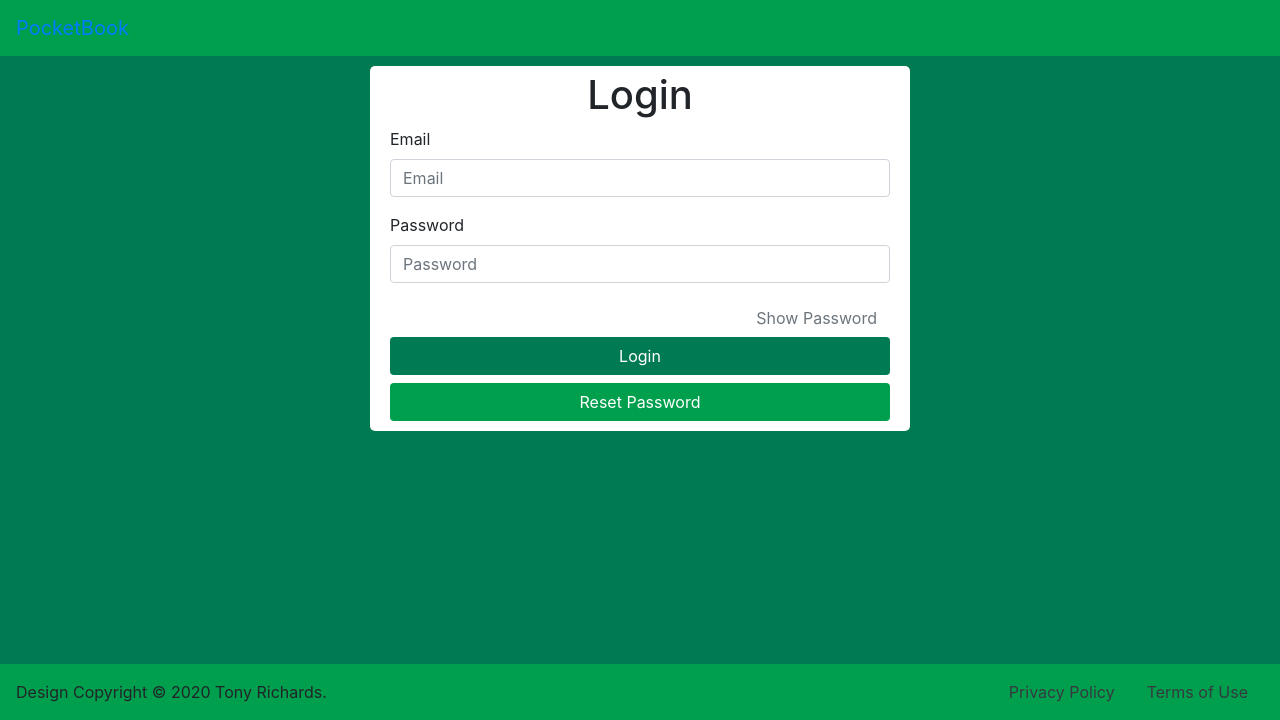
it: Login Page › renders in progress correctly
Type "test@sja.org.uk" into the field labelled "Email" at (640, 178), box [390,159,890,197]
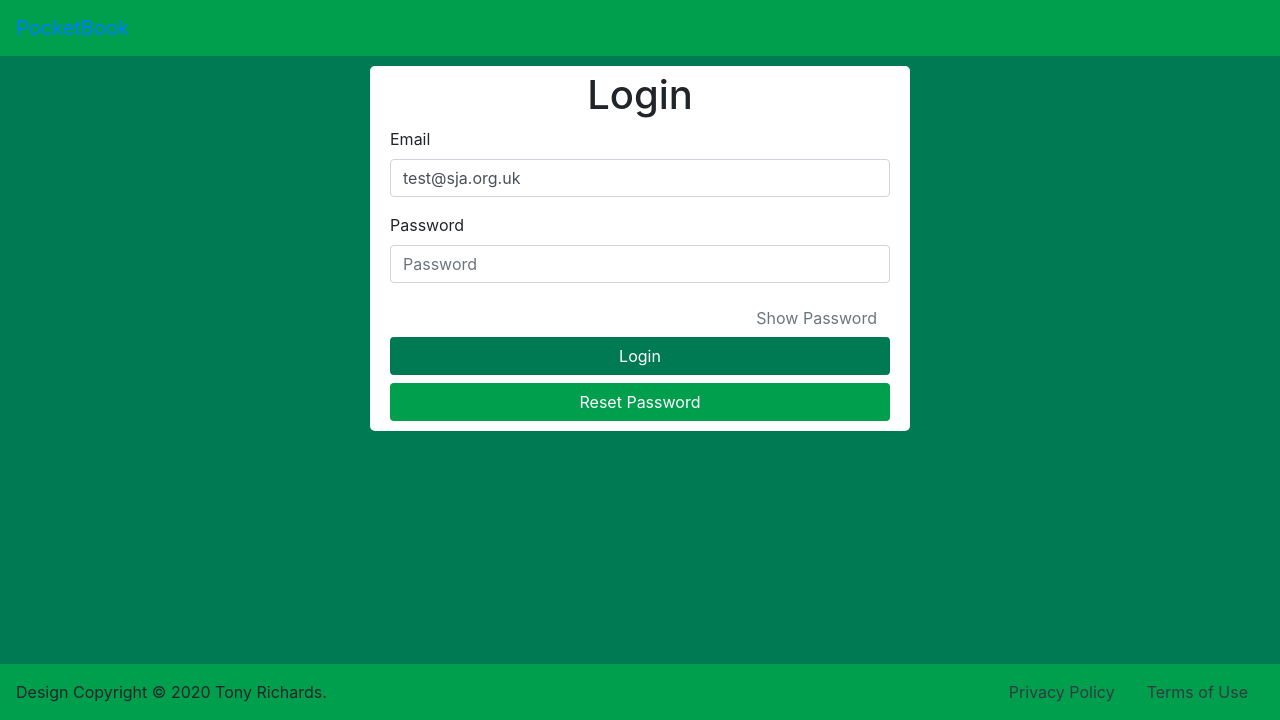
Type "testPassword" into the password field labelled "Password" at (640, 264), box [390,245,890,283]
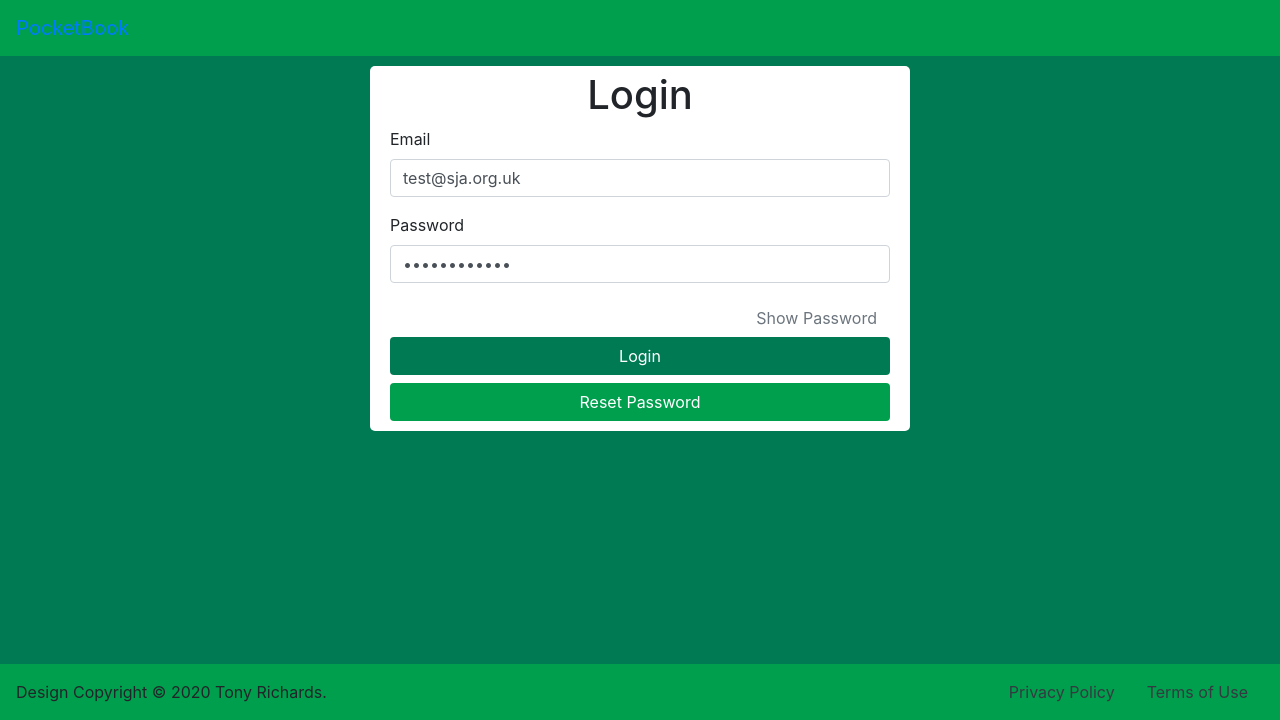
Click the button "Login" at (640, 356), box [390,337,890,375]
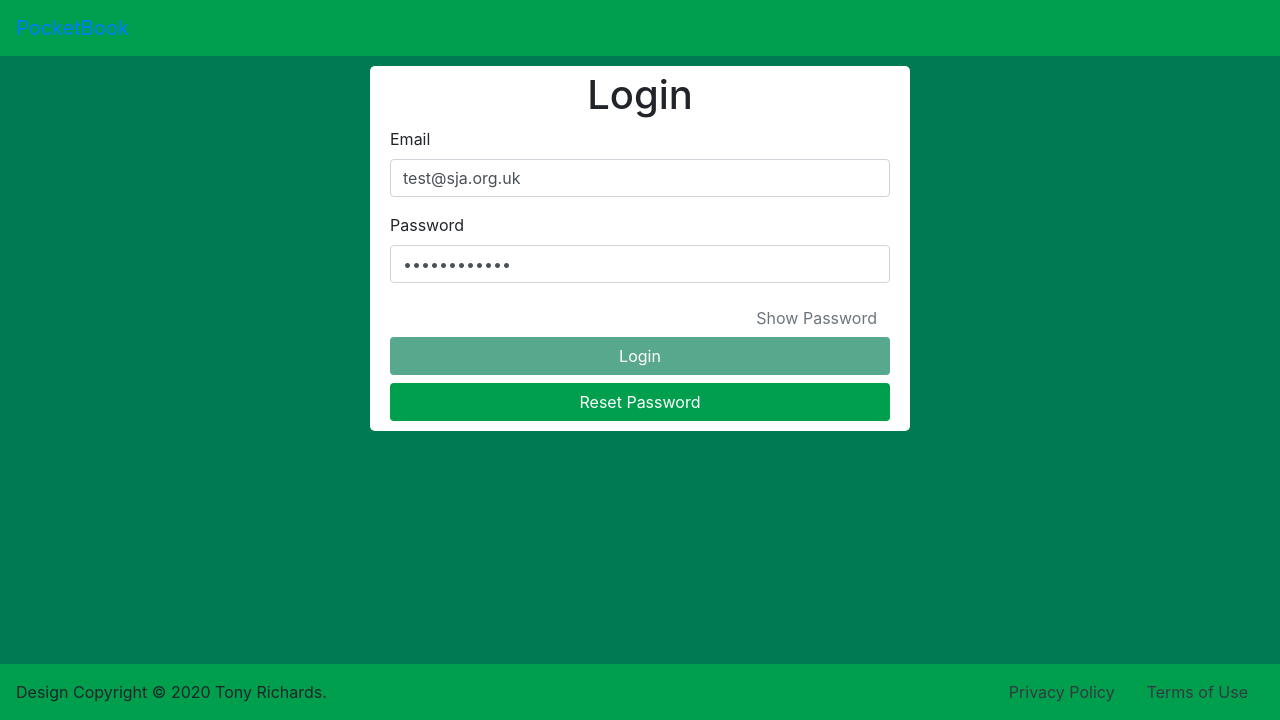
Expected: the button "Login" is disabled, [390,337,890,375]
